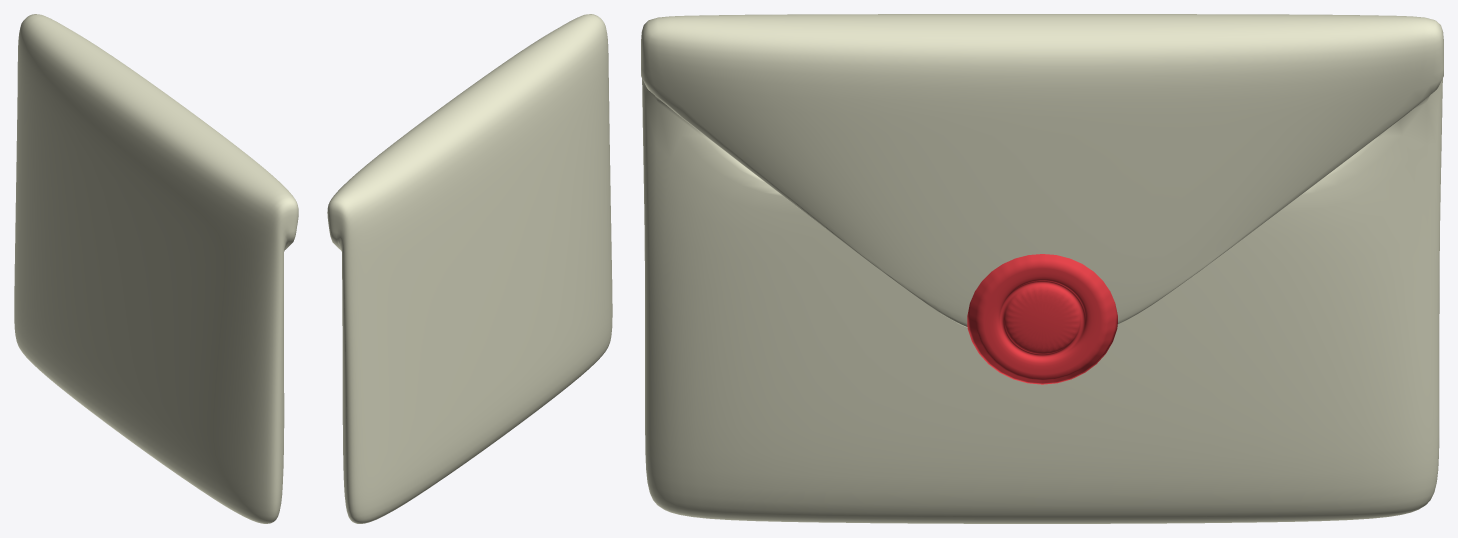
The model's file is envelope.fbx.
The picture shows the model from 3 angles, left to right: view 1: azimuth 30°, elevation 25°; view 2: azimuth 150°, elevation 25°; view 3: azimuth 270°, elevation 25°; orthographic projection. The views are drawn at different scales.
Parts seen in each view (by area): view 1: Cube.001; view 2: Cube.001; view 3: Cube.001, Cylinder.
Boxes of the visible parts, x1,y1,x2,y2 form: Cube.001: (14, 14, 298, 523); Cube.001: (327, 14, 612, 523); Cube.001: (641, 14, 1443, 523); Cylinder: (967, 254, 1117, 384).
Size of the model in its own units: 46.52 by 198 by 284.
